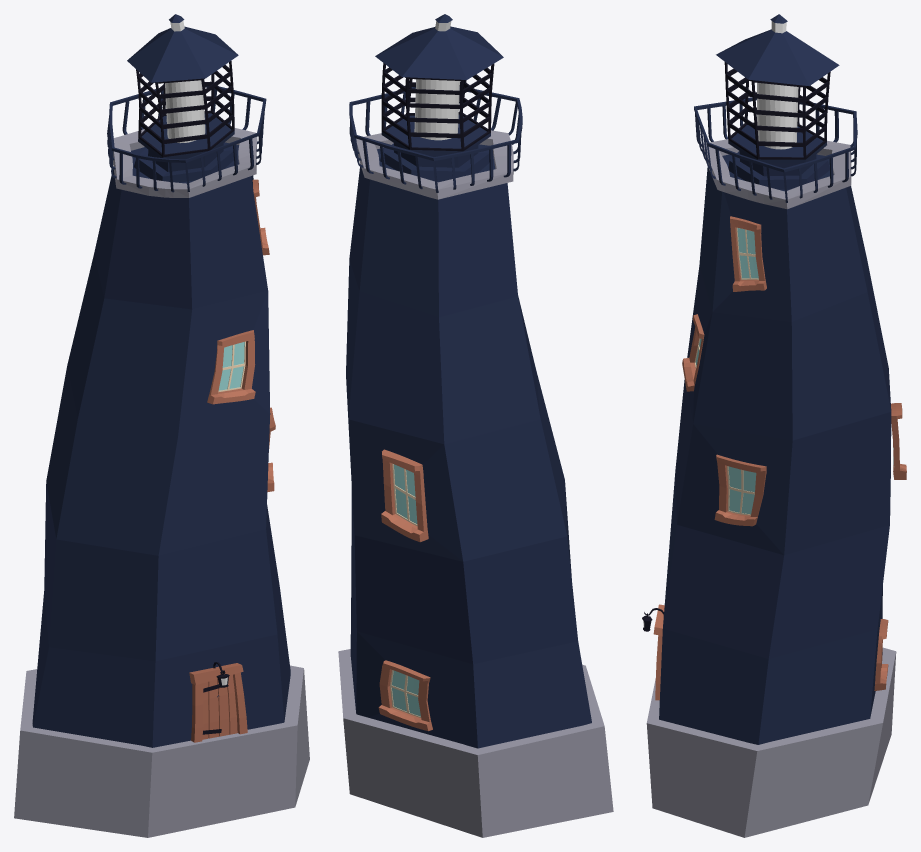
The model's file is Lighthouse_03.fbx.
The picture shows the model from 3 angles, left to right: view 1: azimuth 30°, elevation 25°; view 2: azimuth 150°, elevation 25°; view 3: azimuth 270°, elevation 25°; orthographic projection.
Visible parts, largest first — view 1: Lighthouse_03; view 2: Lighthouse_03; view 3: Lighthouse_03.
Part boxes in pixels (left/top/right/bottom): Lighthouse_03: left=14, top=14, right=309, bottom=837; Lighthouse_03: left=338, top=14, right=613, bottom=837; Lighthouse_03: left=642, top=14, right=906, bottom=837.
Size of the model in its own units: 727 by 1869 by 585.
